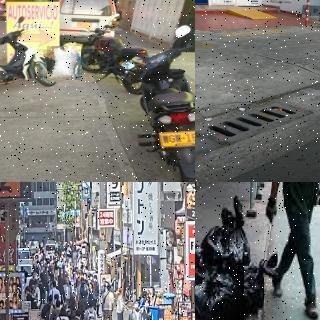Garbage: (195, 260, 247, 320), (200, 205, 236, 270), (234, 260, 267, 314), (230, 193, 255, 264), (45, 44, 83, 82)
